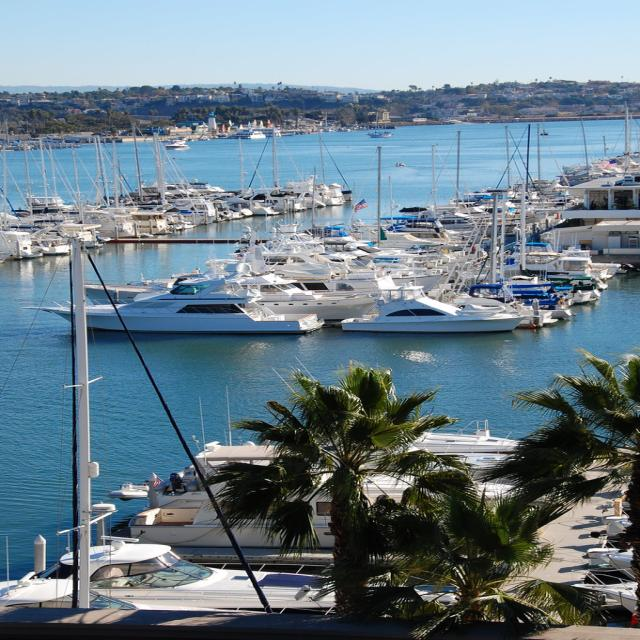Boat: (0, 234, 463, 618), (75, 102, 640, 322), (116, 358, 543, 574), (0, 134, 361, 264), (337, 176, 630, 336), (84, 270, 324, 336), (575, 571, 639, 623), (582, 546, 638, 578), (600, 514, 639, 541), (364, 114, 395, 138), (164, 140, 188, 150)
